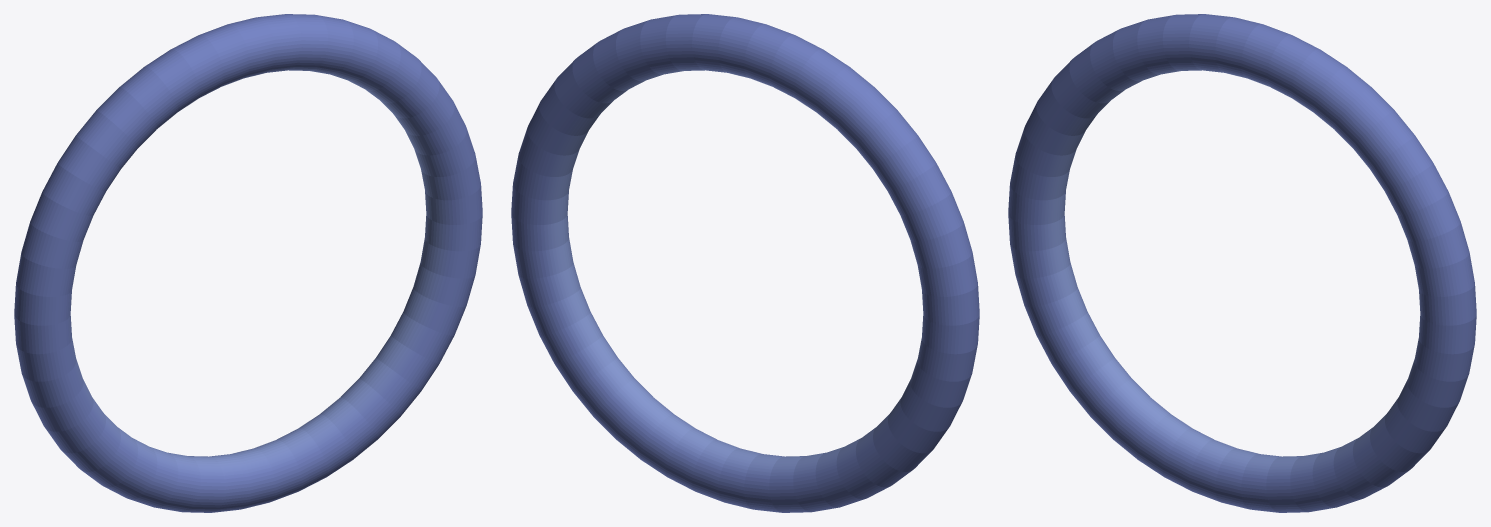
3 views of the same model, side by side, from view 1: azimuth 30°, elevation 25°; view 2: azimuth 150°, elevation 25°; view 3: azimuth 330°, elevation 25° (orthographic).
Visible parts, largest first — view 1: world; view 2: world; view 3: world.
Part boxes in pixels (box(x1,y1,x2,y2)): world: box(14, 14, 482, 512); world: box(511, 14, 979, 512); world: box(1008, 14, 1476, 512).
Bounding box in the file's own units: 23.87 × 23.82 × 2.53.
